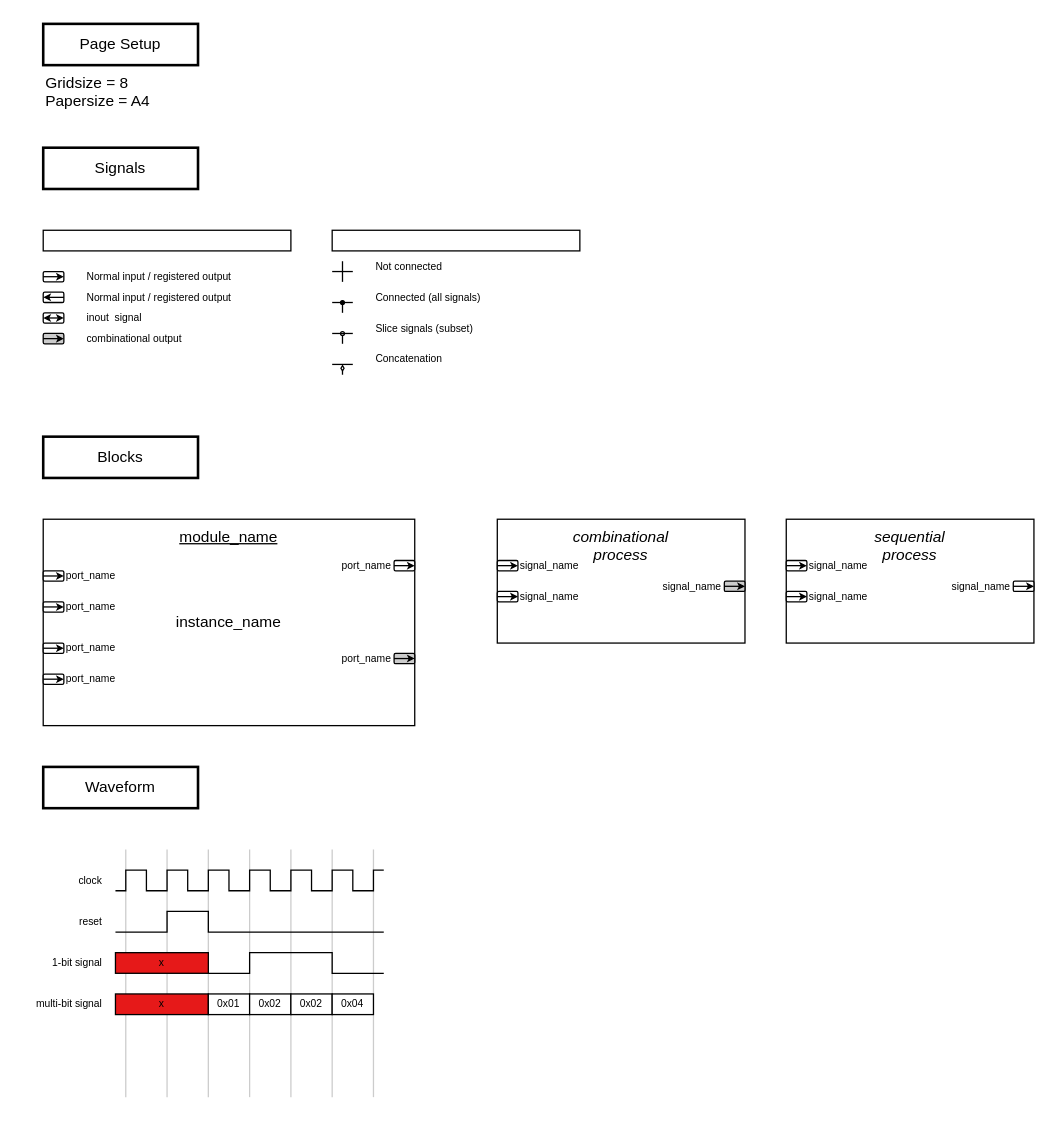
This 1063x1121 diagram has some shape labels left out. The centre of each missing label's shape, as x and y in pixels:
"Connections" belongs at point (455, 240).
"Ports" belongs at point (166, 240).
